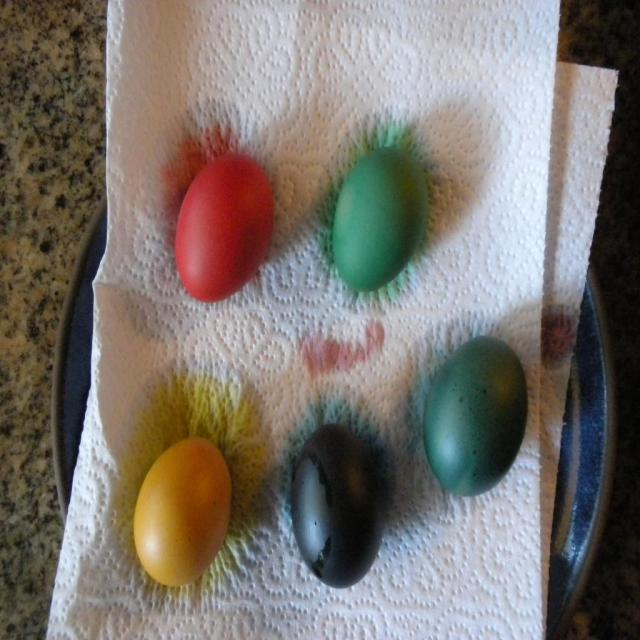Egg: (420, 335, 530, 498), (290, 421, 388, 591), (172, 152, 278, 302), (131, 438, 233, 588), (330, 147, 432, 296)
